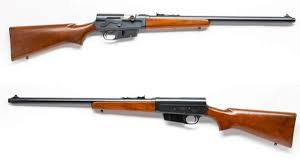gun: (6, 93, 300, 150), (8, 9, 297, 62)
